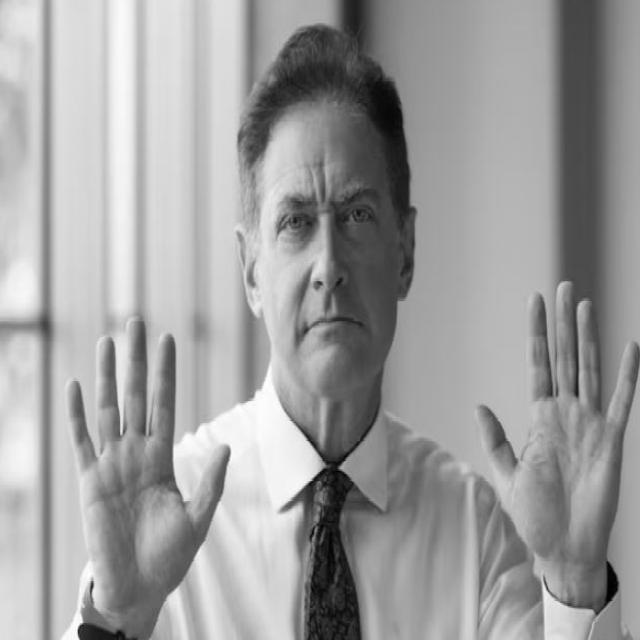stop: (60, 306, 235, 622), (471, 272, 640, 583)
